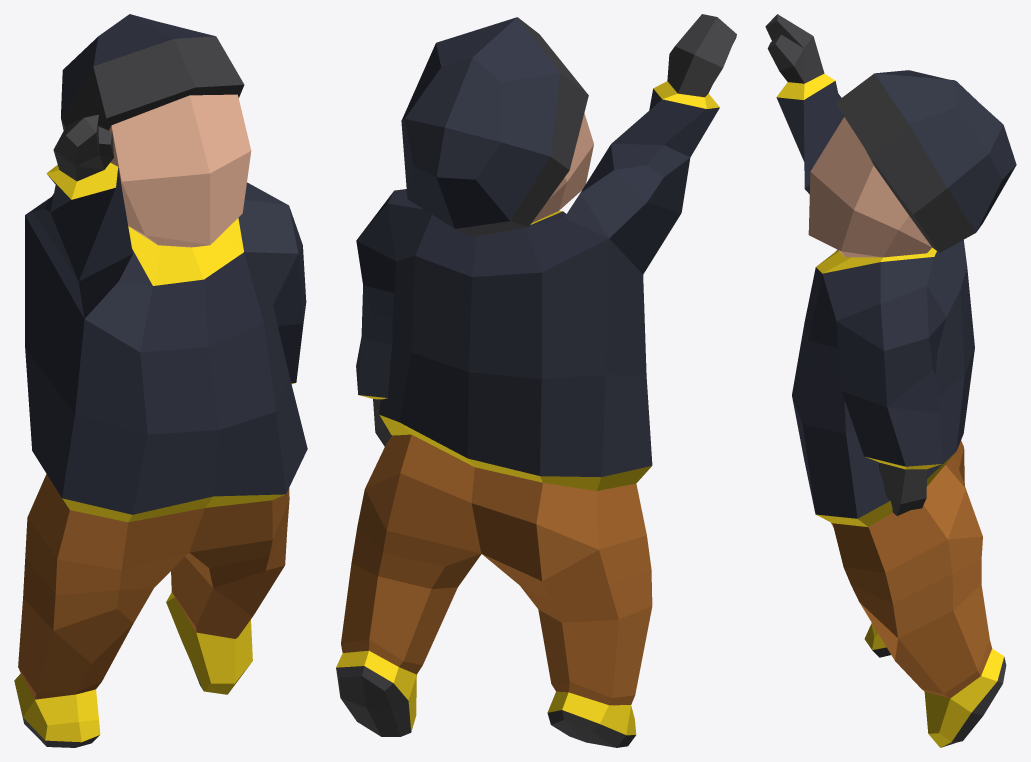
Rendered from AutumnBaby.004.glb.
The picture shows the model from 3 angles, left to right: view 1: azimuth 30°, elevation 25°; view 2: azimuth 150°, elevation 25°; view 3: azimuth 270°, elevation 25°; orthographic projection. The views are drawn at different scales.
Visible parts, largest first — view 1: AutumnBaby.004; view 2: AutumnBaby.004; view 3: AutumnBaby.004.
Boxes of the visible parts, x1,y1,x2,y2 form: AutumnBaby.004: (14, 14, 307, 747); AutumnBaby.004: (336, 14, 736, 747); AutumnBaby.004: (765, 14, 1016, 747).
Bounding box in the file's own units: 0.2868 × 0.6333 × 0.2272.
Materials: 1 (1 with a texture image).
